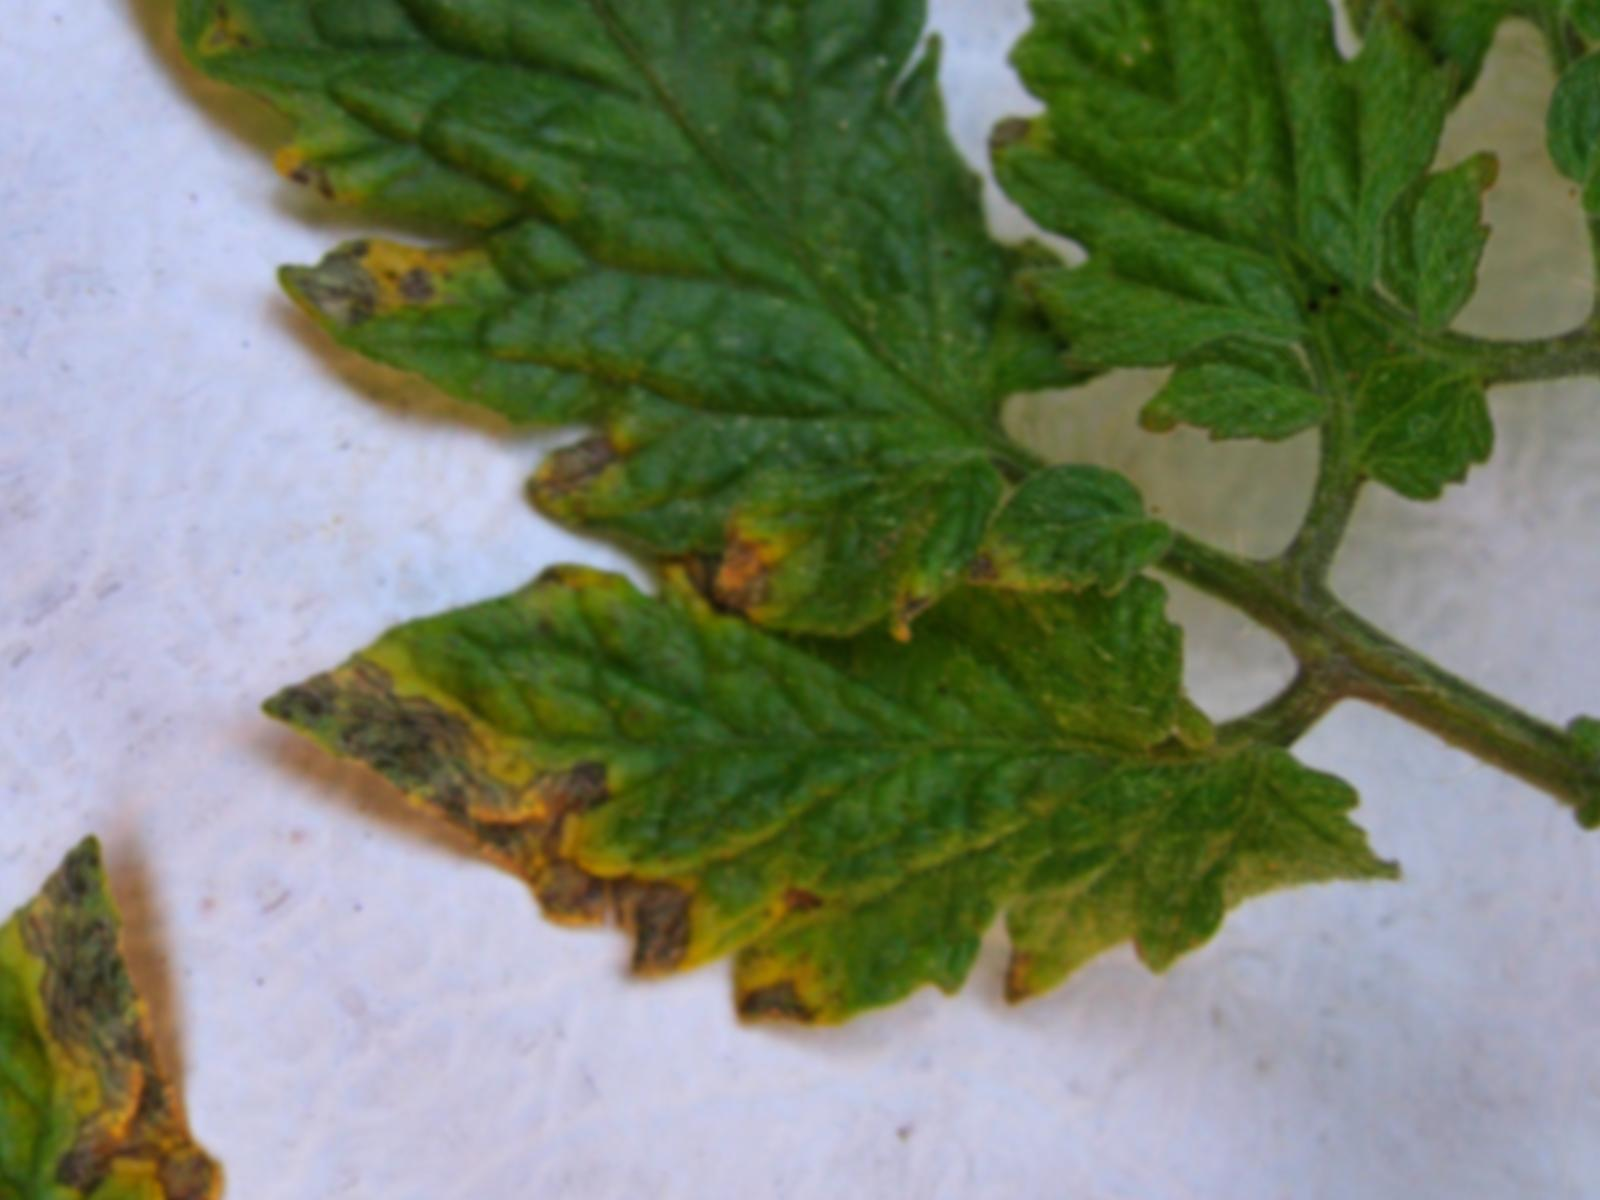Tomato Septoria leaf spot: (139, 0, 1495, 1131), (252, 197, 1412, 1200)
